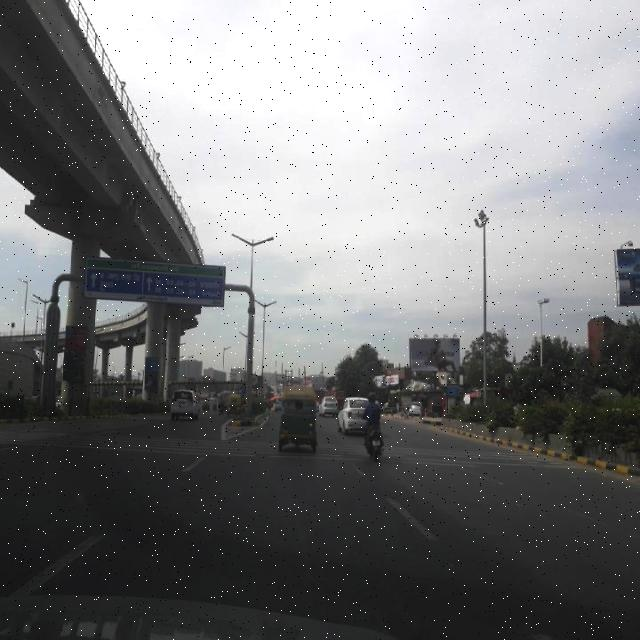D00: (326, 481, 374, 618)
